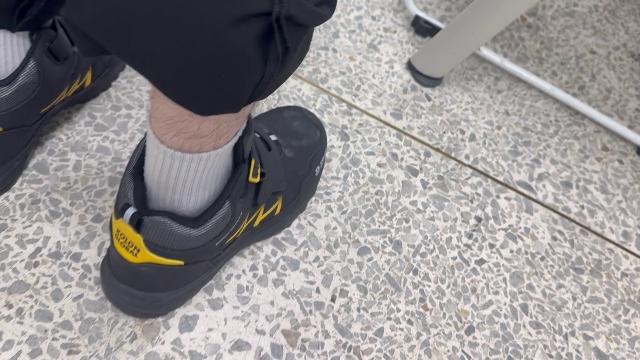shoe_worn: (107, 104, 331, 318), (3, 10, 122, 195)
